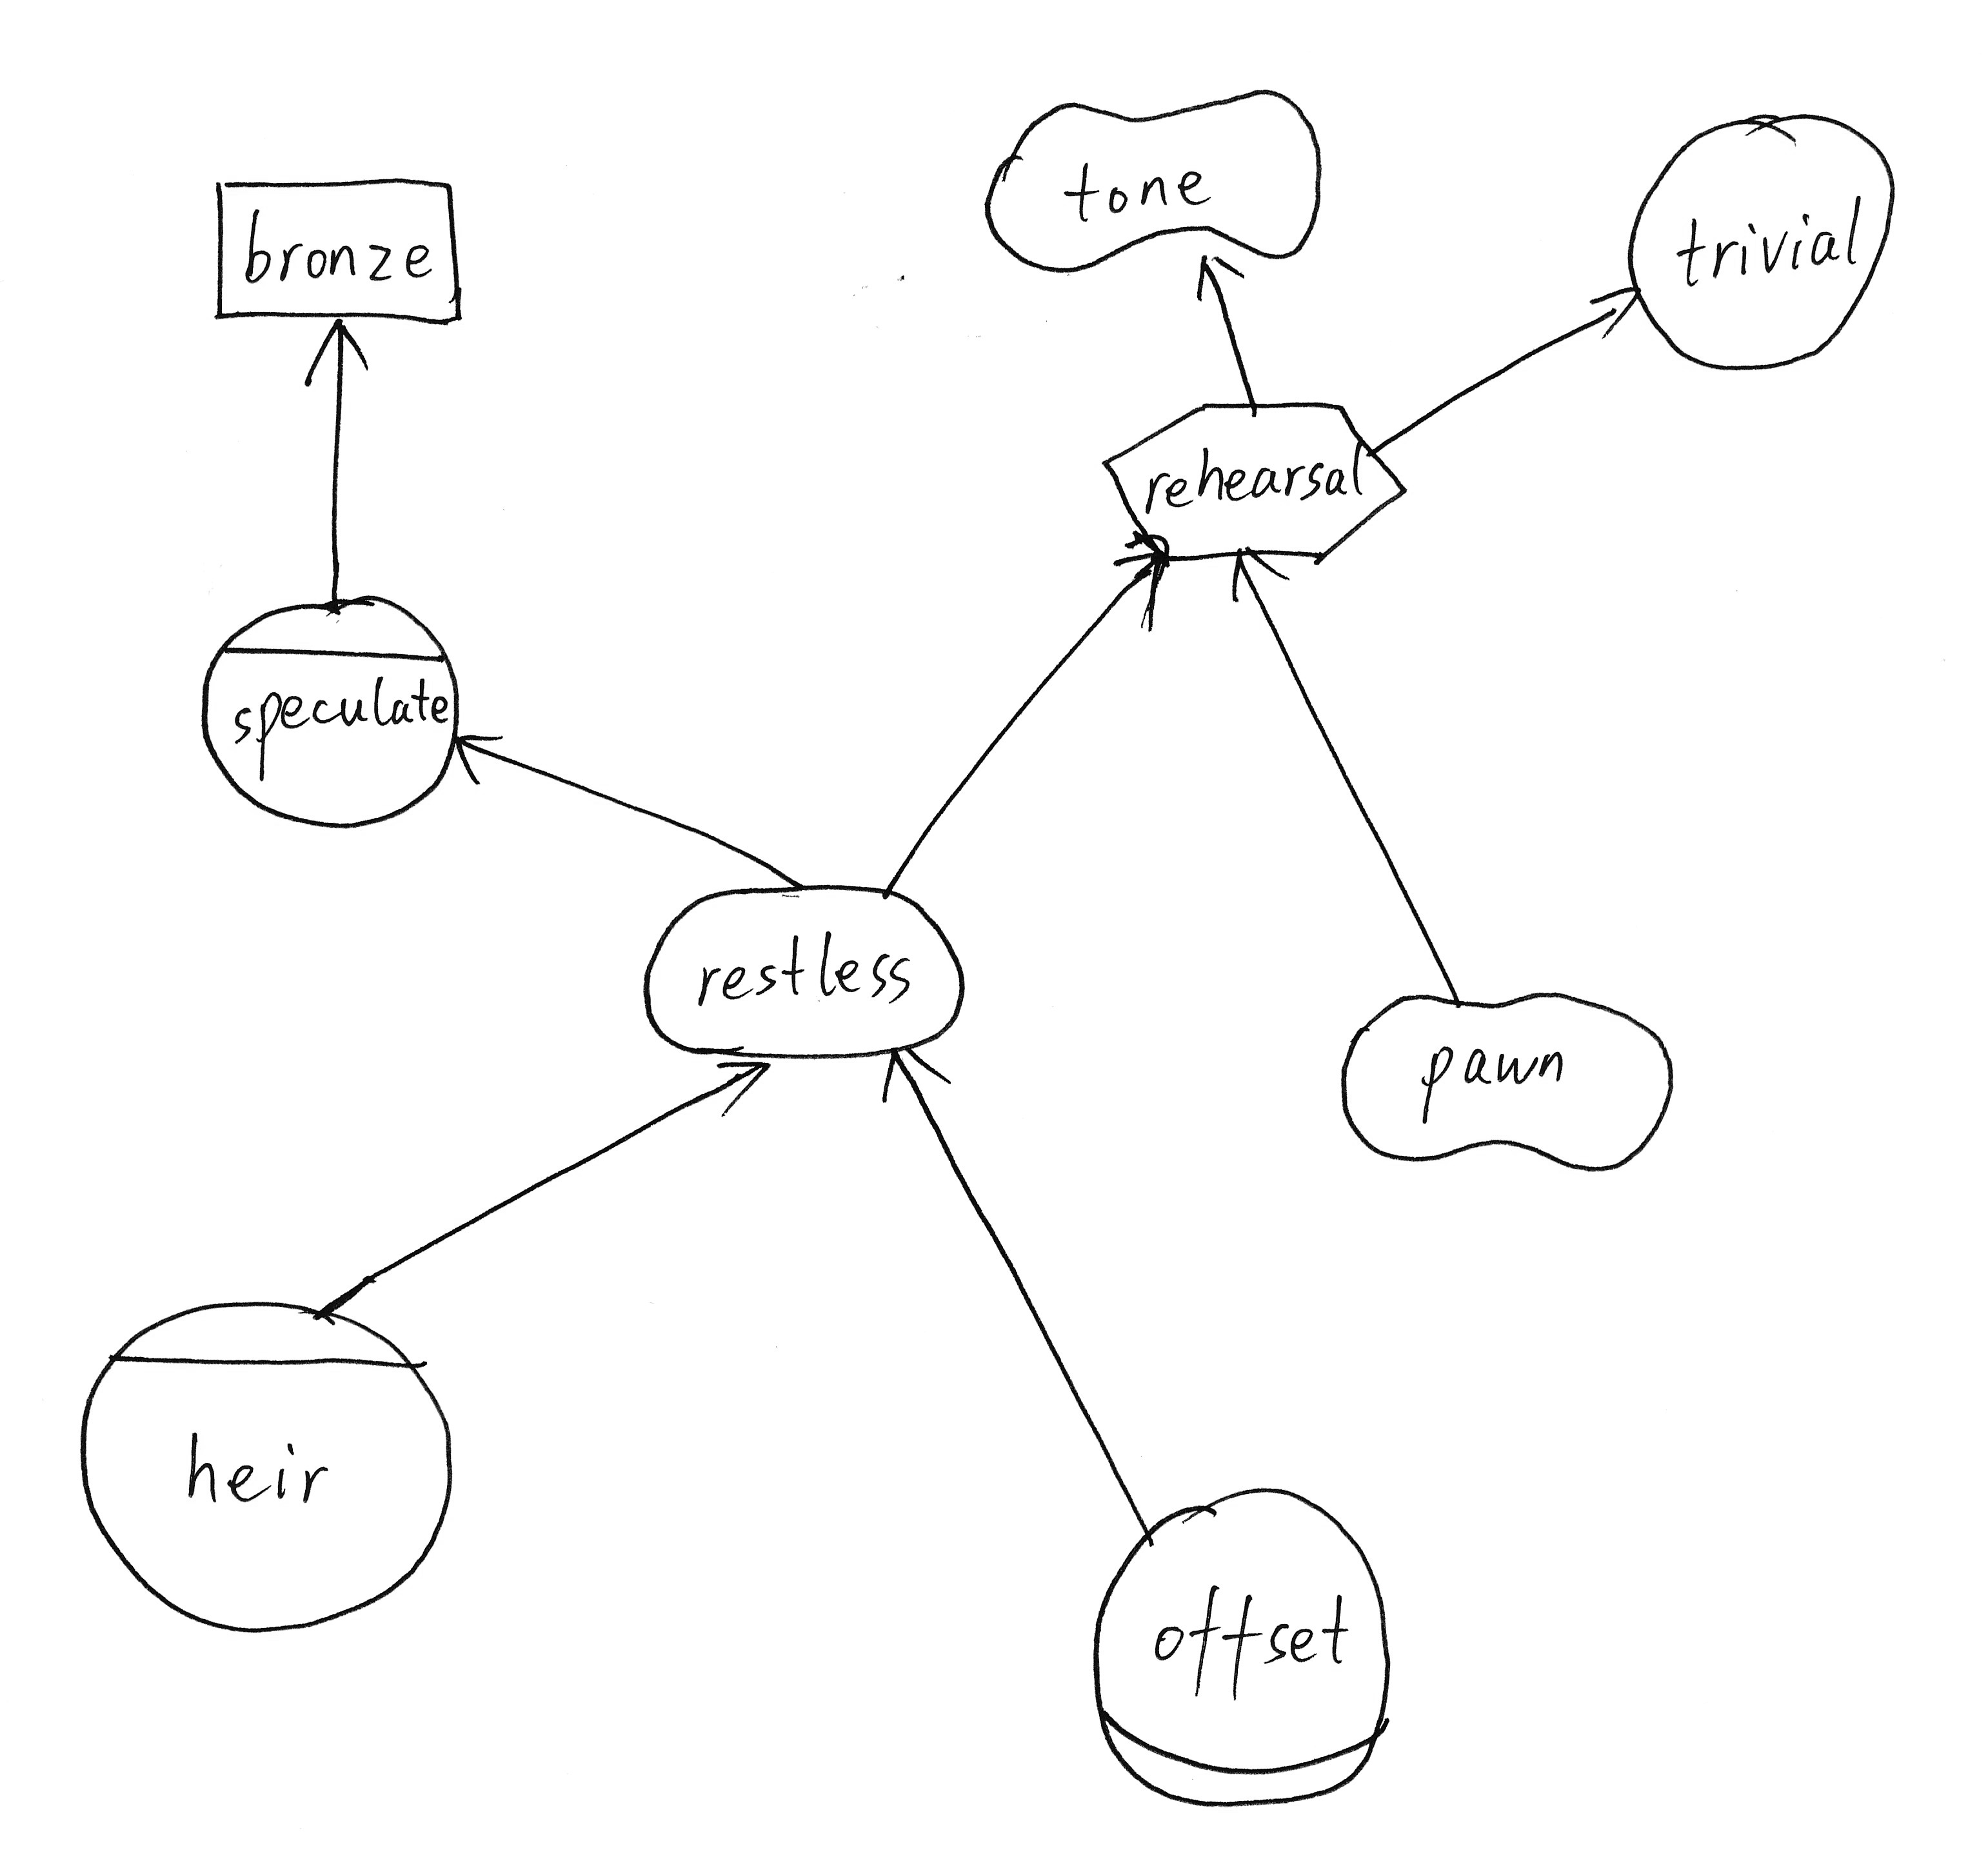actor: (1612, 95, 1909, 384)
agent: (63, 1276, 467, 1645), (181, 574, 481, 836)
arrow: (1099, 520, 1198, 639), (868, 1032, 966, 1150), (697, 1034, 790, 1127), (293, 305, 385, 400), (1222, 532, 1305, 625), (1177, 241, 1259, 316), (444, 716, 518, 801), (1581, 272, 1651, 348)
goal: (629, 867, 987, 1080)
quality: (968, 74, 1347, 286), (1326, 978, 1693, 1183)
resource: (193, 162, 483, 342)
role: (1077, 1471, 1408, 1826)
task: (1091, 386, 1419, 581)
